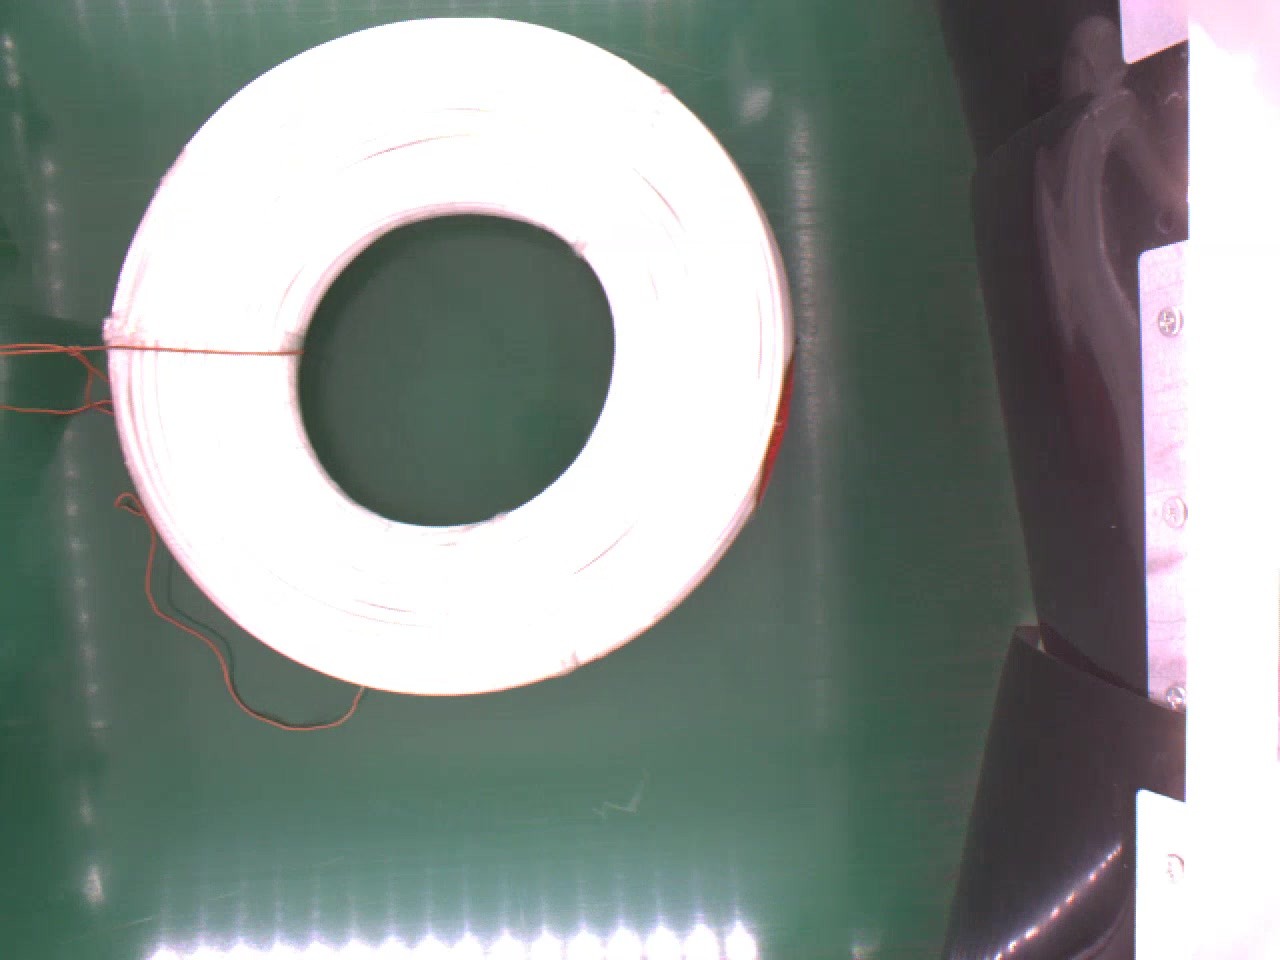white: (101, 18, 810, 699)
